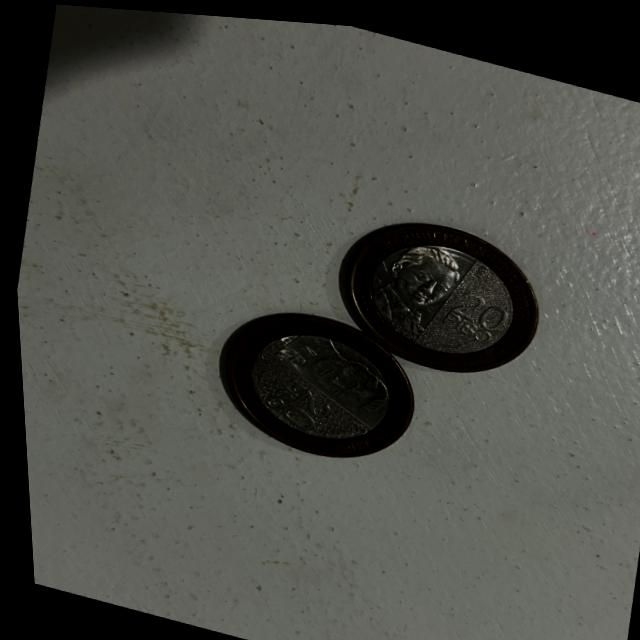20_New_Front: (241, 357, 343, 441), (431, 277, 509, 347)
